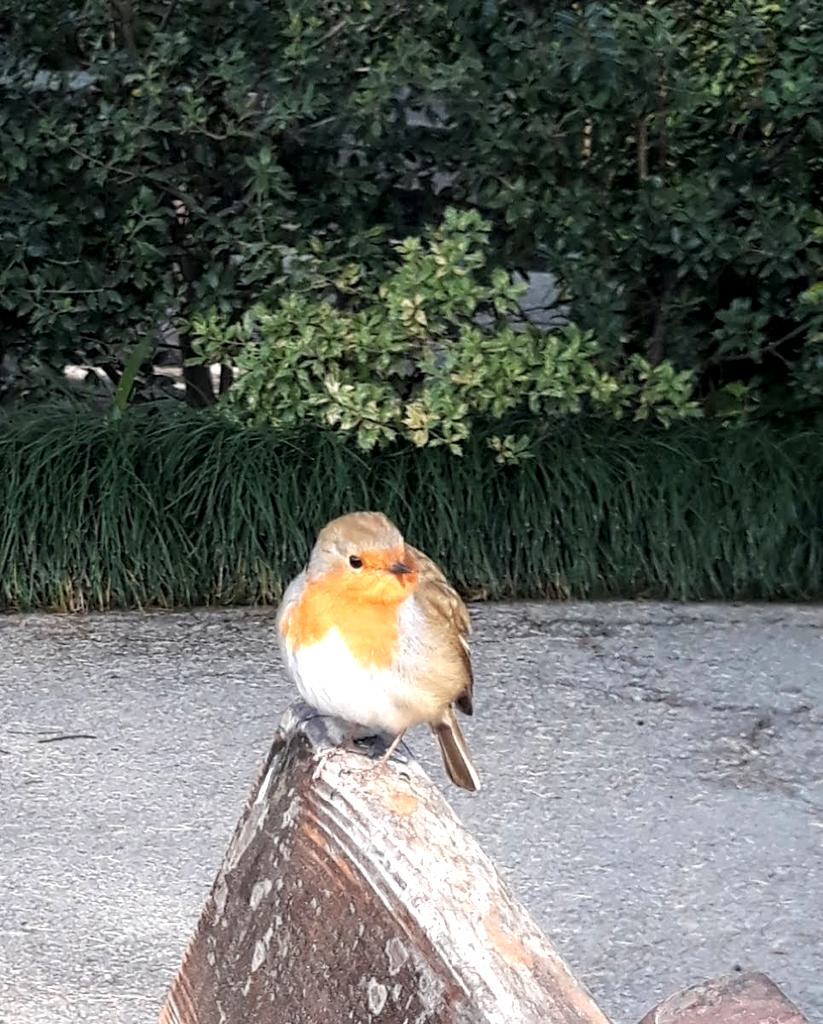ErithacusRubecula: (275, 511, 481, 792)
